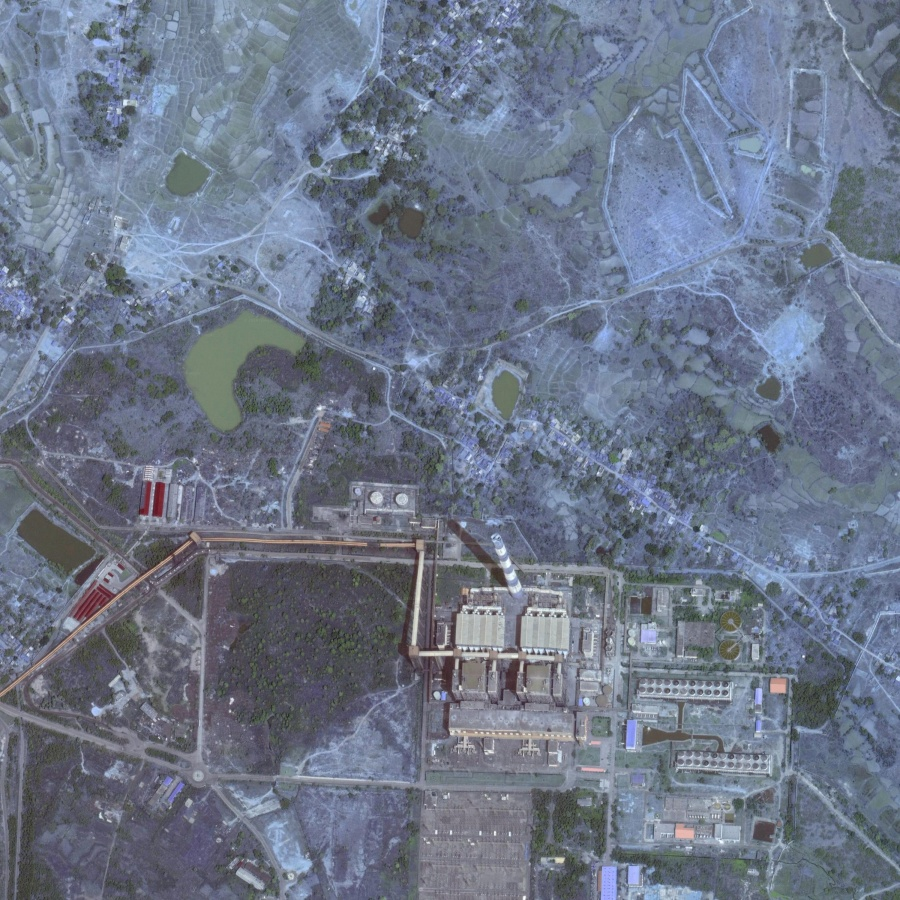PowerPlant: (422, 494, 576, 627)
